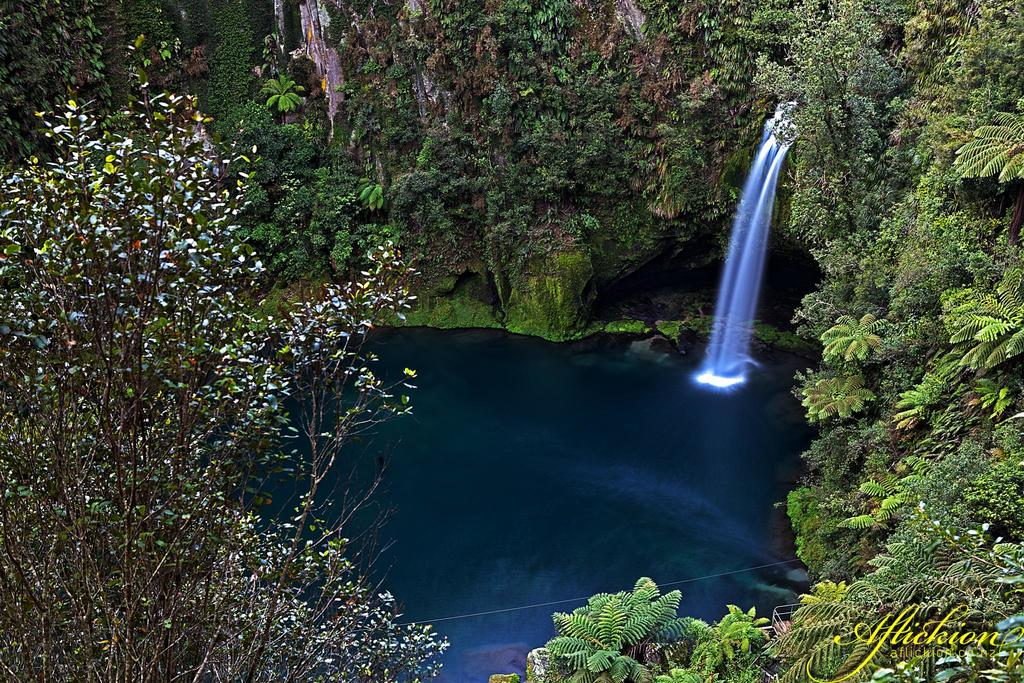Tree: (0, 36, 451, 682)
